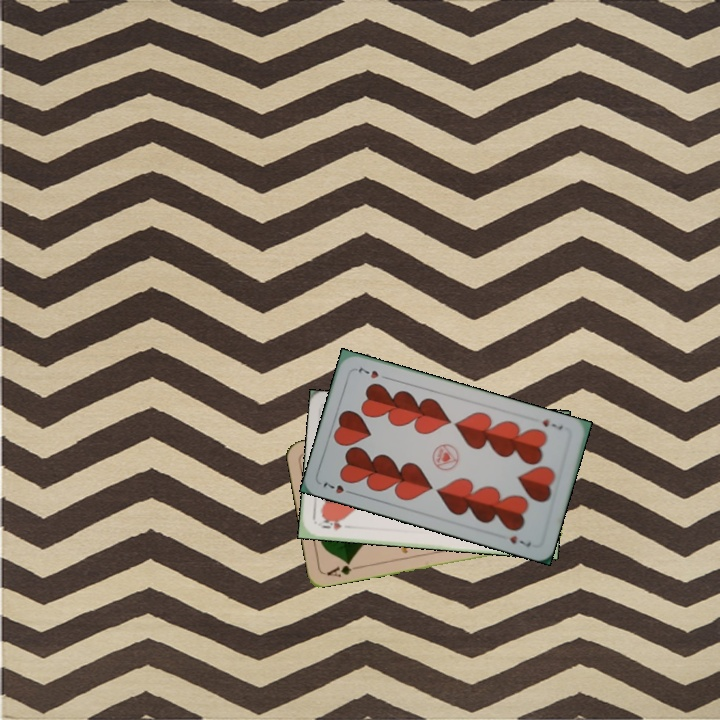GA: (323, 558, 362, 580)
H7: (319, 478, 357, 497), (538, 415, 565, 433)
HO: (317, 515, 344, 533)
